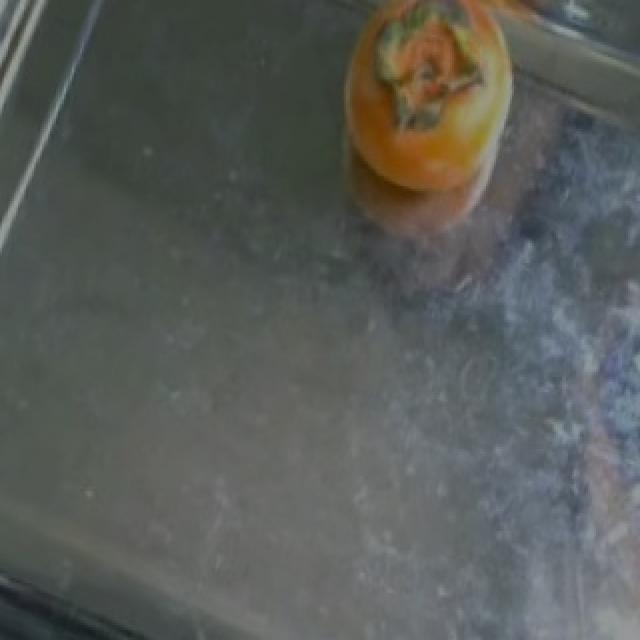Fruit: (312, 0, 540, 253)
